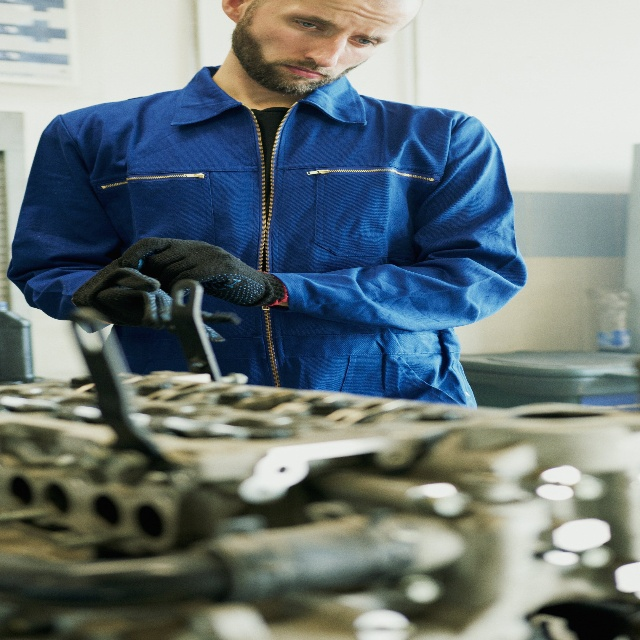Guantes: (71, 258, 239, 344), (121, 236, 289, 309)
